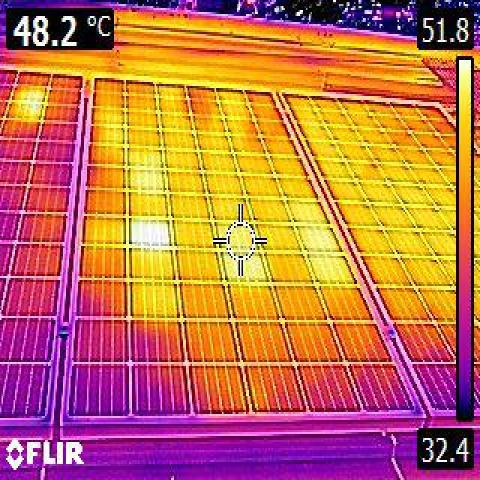fault: (133, 219, 167, 245)
